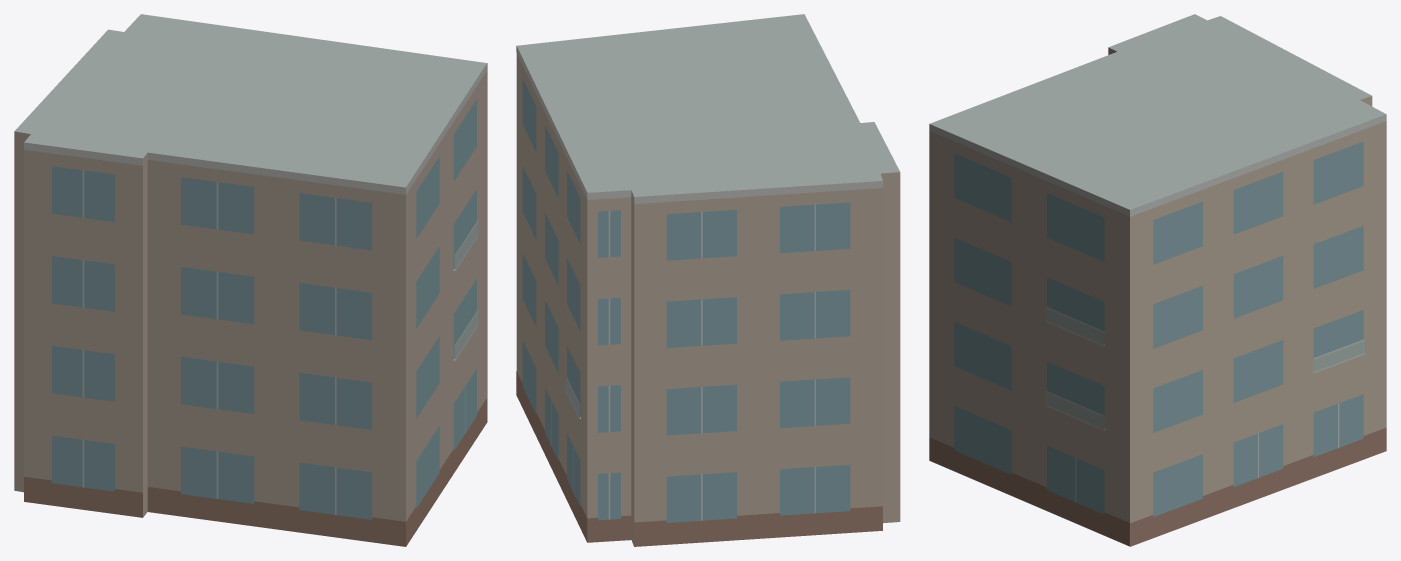
The model's file is survey-upis-32780978.glb.
The picture shows the model from 3 angles, left to right: view 1: azimuth 30°, elevation 25°; view 2: azimuth 150°, elevation 25°; view 3: azimuth 270°, elevation 25°; orthographic projection. The views are drawn at different scales.
Parts seen in each view (by area): view 1: survey-upis-32780978.tmp; view 2: survey-upis-32780978.tmp; view 3: survey-upis-32780978.tmp.
Boxes of the visible parts, box(x1,y1,x2,y2) form: survey-upis-32780978.tmp: box(14, 14, 487, 546); survey-upis-32780978.tmp: box(516, 14, 900, 546); survey-upis-32780978.tmp: box(929, 14, 1386, 546).
Bounding box in the file's own units: 15.12 × 12.1 × 14.9.
